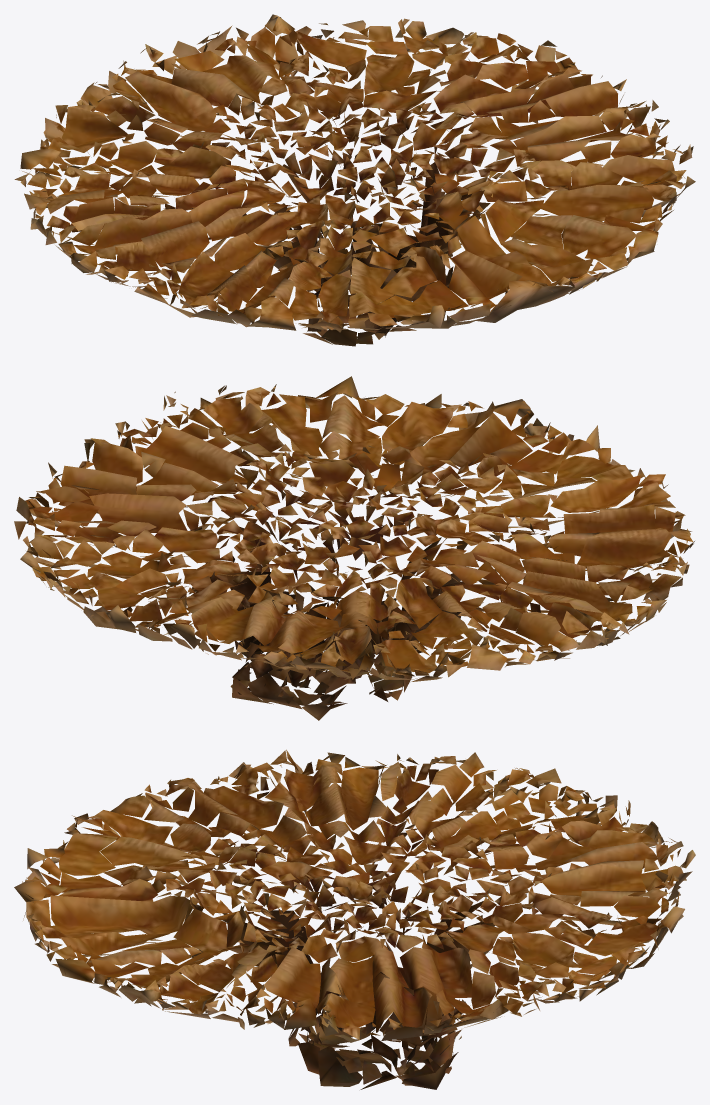
The model's file is coral_plate.glb.
3 renders of one model, top to bottom at view 1: azimuth 30°, elevation 25°; view 2: azimuth 150°, elevation 25°; view 3: azimuth 270°, elevation 25°, orthographic.
Visible parts, largest first — view 1: tripo_node_98f03ac6-d365-4192-b8ac-459b0ddf9cfa; view 2: tripo_node_98f03ac6-d365-4192-b8ac-459b0ddf9cfa; view 3: tripo_node_98f03ac6-d365-4192-b8ac-459b0ddf9cfa.
Boxes of the visible parts, x1=… form: tripo_node_98f03ac6-d365-4192-b8ac-459b0ddf9cfa: x1=14, y1=14, x2=695, y2=346; tripo_node_98f03ac6-d365-4192-b8ac-459b0ddf9cfa: x1=14, y1=376, x2=694, y2=720; tripo_node_98f03ac6-d365-4192-b8ac-459b0ddf9cfa: x1=14, y1=749, x2=695, y2=1089.
Size of the model in its own units: 0.9903 by 0.299 by 0.9914.
Materials: 1 (1 with a texture image).
